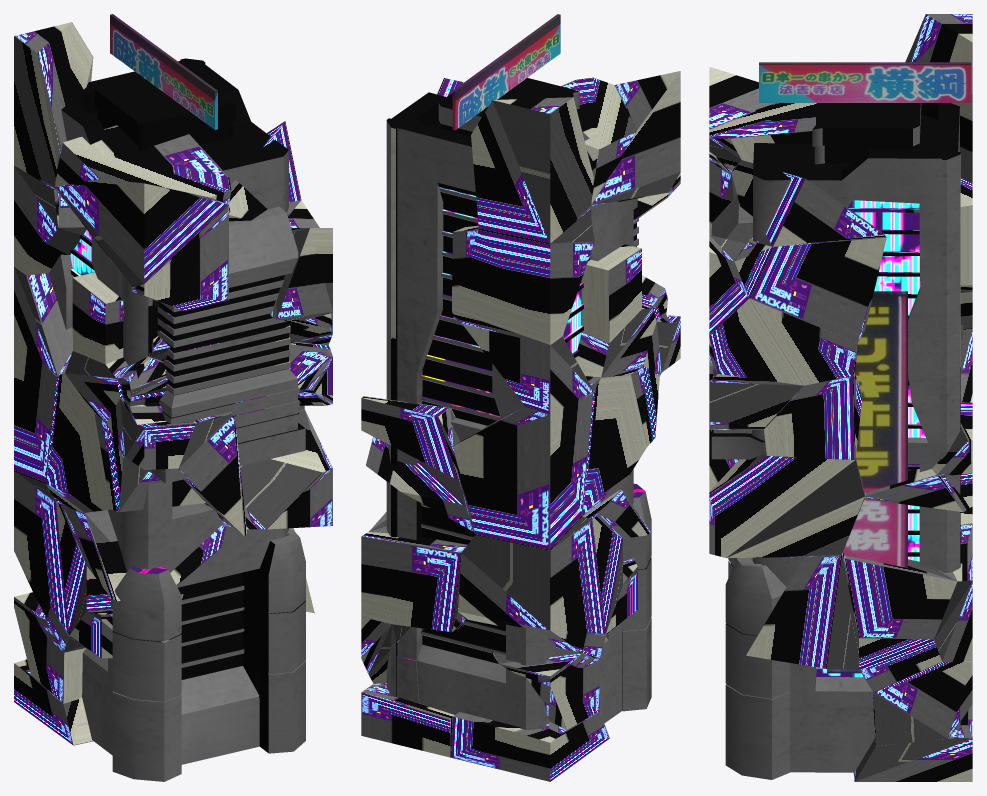
File: shellyGebouw5_Broken.fbx
3 views of the same model, side by side, from view 1: azimuth 30°, elevation 25°; view 2: azimuth 150°, elevation 25°; view 3: azimuth 270°, elevation 25° (orthographic).
Visible parts, largest first — view 1: w.001_cell.004, w.001_cell.010, w.001_cell.037, w.001_cell.046, w.001_cell.014, w.001_cell.081, w.001_cell.018, w.001_cell.065, w.001_cell.080, w.001_cell.011, w.001_cell.016, w.001_cell.035 (+24 smaller); view 2: w.001_cell.010, w.001_cell.091, w.001_cell.014, w.001_cell.065, w.001_cell.035, w.001_cell.049, w.001_cell.026, w.001_cell.016, w.001_cell.046, w.001_cell.031, w.001_cell.080, w.001_cell.020 (+26 smaller); view 3: w.001_cell.037, w.001_cell.018, w.001_cell.083, w.001_cell.087, w.001_cell.085, w.001_cell.010, w.001_cell.071, w.001_cell.021, w.001_cell.093, w.001_cell.049, w.001_cell.032, w.001_cell.028 (+25 smaller).
Part boxes in pixels (x1,y1,x2,y2): w.001_cell.004: (61, 62, 332, 764); w.001_cell.010: (49, 71, 330, 781); w.001_cell.037: (66, 99, 305, 781); w.001_cell.046: (55, 179, 230, 287); w.001_cell.014: (14, 22, 93, 189); w.001_cell.081: (55, 125, 231, 204); w.001_cell.018: (204, 408, 332, 529); w.001_cell.065: (14, 471, 85, 652); w.001_cell.080: (46, 373, 110, 512); w.001_cell.011: (178, 572, 244, 679); w.001_cell.016: (14, 230, 242, 669); w.001_cell.035: (14, 165, 86, 275); w.001_cell.010: (386, 78, 651, 729); w.001_cell.091: (453, 393, 592, 550); w.001_cell.014: (471, 97, 593, 243); w.001_cell.065: (458, 516, 605, 658); w.001_cell.035: (452, 210, 594, 345); w.001_cell.049: (421, 183, 505, 663); w.001_cell.026: (361, 532, 467, 632); w.001_cell.016: (422, 183, 593, 648); w.001_cell.046: (591, 71, 680, 206); w.001_cell.031: (450, 711, 609, 781); w.001_cell.080: (582, 374, 647, 518); w.001_cell.020: (361, 396, 460, 480); w.001_cell.037: (711, 103, 962, 779); w.001_cell.018: (709, 452, 864, 557); w.001_cell.083: (734, 233, 886, 342); w.001_cell.087: (709, 207, 920, 553); w.001_cell.085: (746, 553, 858, 668); w.001_cell.010: (711, 103, 963, 699); w.001_cell.071: (845, 555, 957, 639); w.001_cell.021: (873, 661, 972, 745); w.001_cell.093: (763, 373, 862, 459); w.001_cell.049: (816, 200, 925, 677); w.001_cell.032: (731, 160, 883, 246); w.001_cell.028: (853, 704, 972, 781).
Bounding box in the file's own units: 775 × 2615 × 926.
